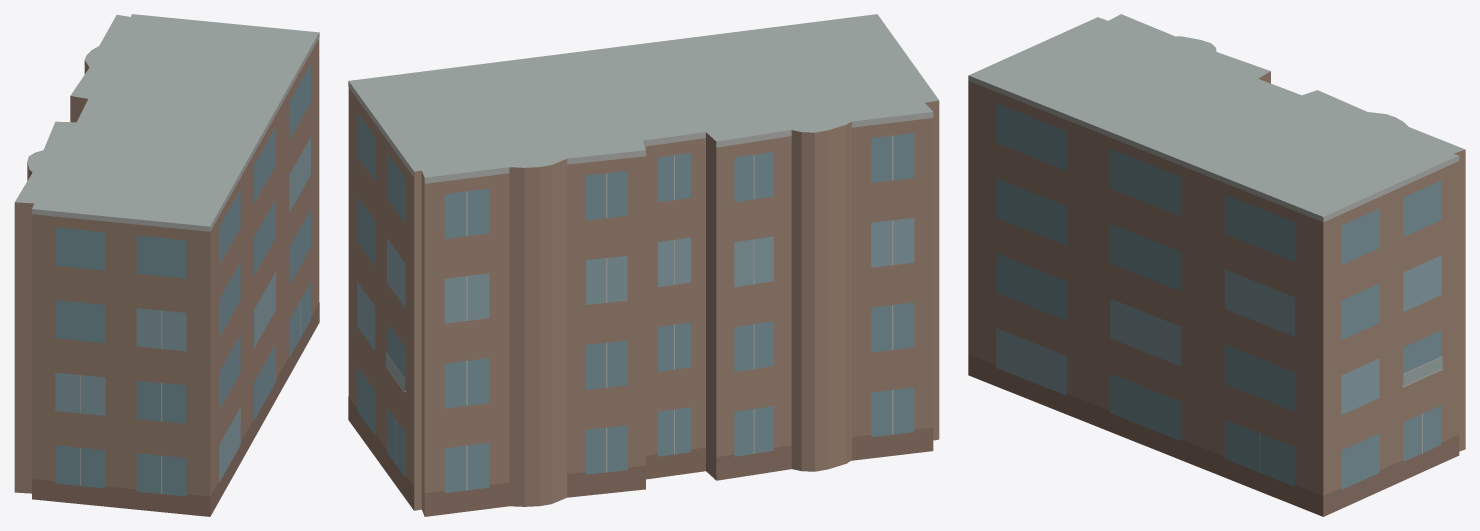
Rendered from survey-upis-32697711.glb.
3 renders of one model, left to right at view 1: azimuth 30°, elevation 25°; view 2: azimuth 150°, elevation 25°; view 3: azimuth 270°, elevation 25°, orthographic. The views are drawn at different scales.
Visible parts, largest first — view 1: survey-upis-32697711.tmp; view 2: survey-upis-32697711.tmp; view 3: survey-upis-32697711.tmp.
Part boxes in pixels (box(x1,y1,x2,y2)): survey-upis-32697711.tmp: box(14, 14, 319, 516); survey-upis-32697711.tmp: box(348, 14, 939, 516); survey-upis-32697711.tmp: box(968, 14, 1465, 516).
Bounding box in the file's own units: 19.83 × 13.65 × 20.51.
